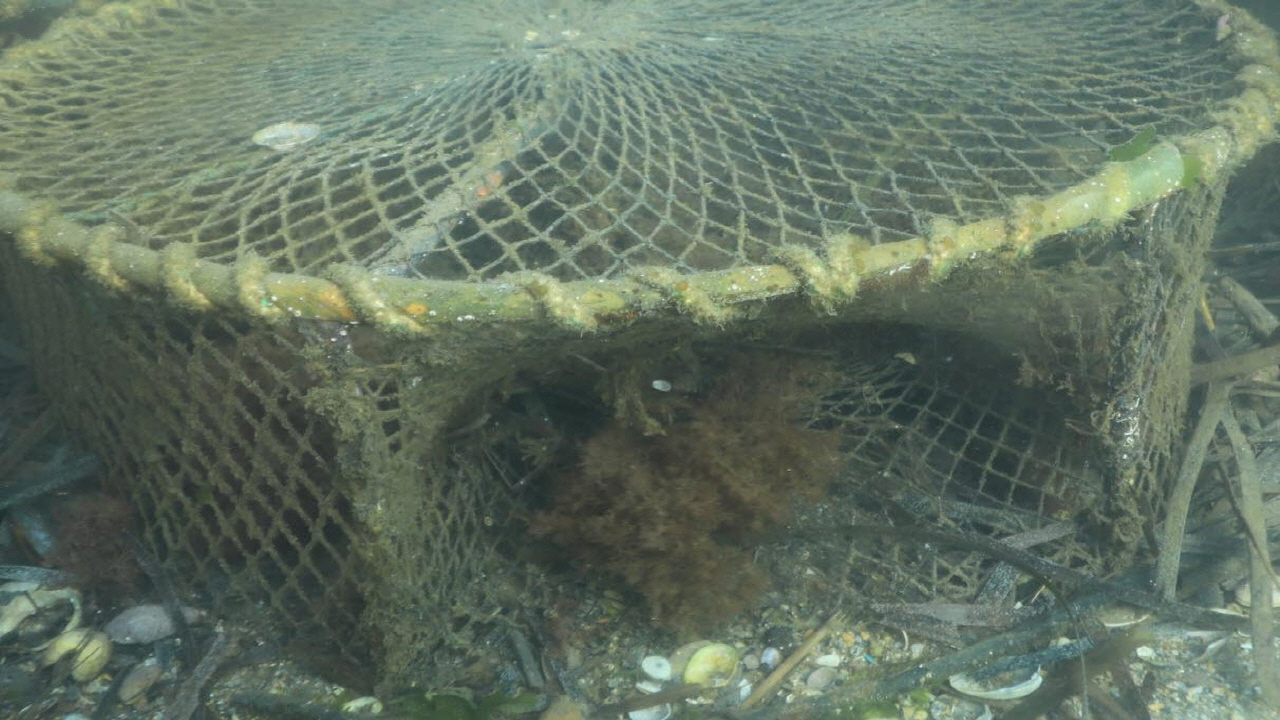circular fish trap: (0, 0, 1280, 691)
